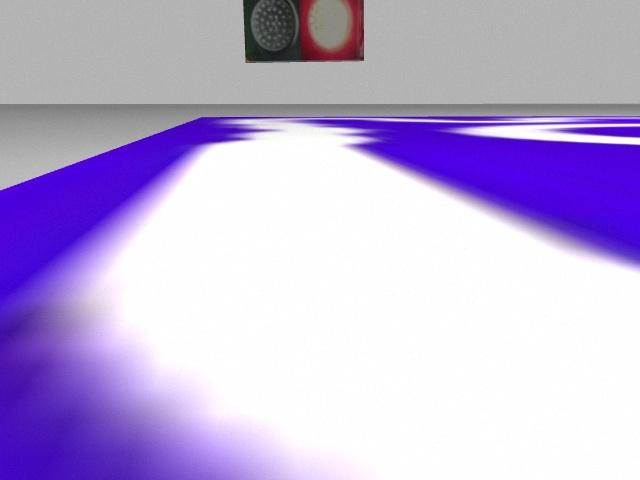red: (300, 1, 363, 58)
